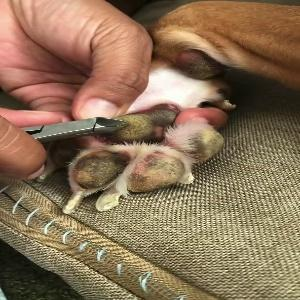keratosis: (106, 104, 174, 144)
